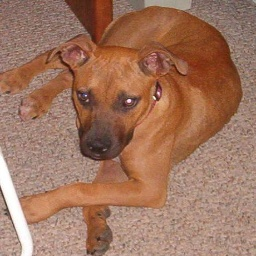dog: (7, 7, 240, 254)
